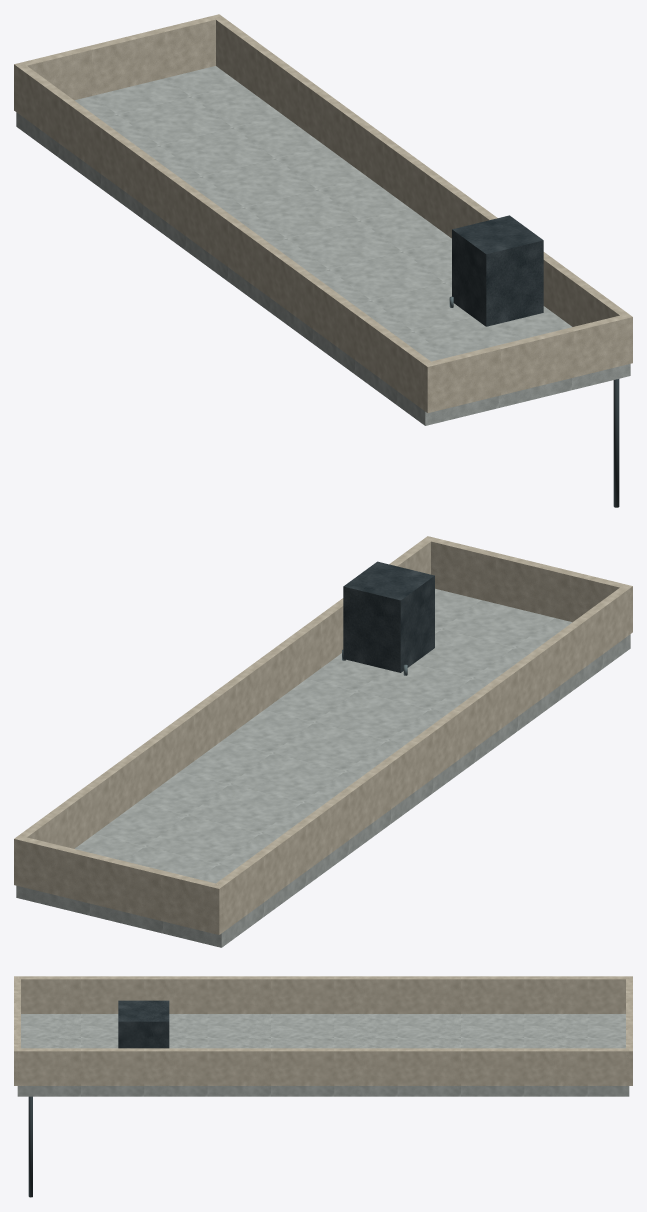
Rendered from Roof_Parapet.glb.
The picture shows the model from 3 angles, top to bottom: view 1: azimuth 30°, elevation 25°; view 2: azimuth 150°, elevation 25°; view 3: azimuth 270°, elevation 25°; orthographic projection. The views are drawn at different scales.
Visible parts, largest first — view 1: VIS_Roof_Deck_0000, VIS_Parapet_Side_0001, VIS_Parapet_Side_0002, VIS_Parapet_End_0004, VIS_Parapet_End_0003, VIS_Water_Tank_0007, VIS_Rainpipe_0006; view 2: VIS_Roof_Deck_0000, VIS_Parapet_Side_0001, VIS_Parapet_Side_0002, VIS_Parapet_End_0003, VIS_Parapet_End_0004, VIS_Water_Tank_0007; view 3: VIS_Roof_Deck_0000, VIS_Parapet_Side_0002, VIS_Parapet_Side_0001, VIS_Water_Tank_0007, VIS_Parapet_End_0003, VIS_Parapet_End_0004, VIS_Rainpipe_0006.
Part boxes in pixels (box(x1,y1,x2,y2)): VIS_Roof_Deck_0000: box(16, 66, 630, 425); VIS_Parapet_Side_0001: box(16, 64, 432, 410); VIS_Parapet_Side_0002: box(214, 16, 629, 326); VIS_Parapet_End_0004: box(423, 314, 632, 412); VIS_Parapet_End_0003: box(14, 14, 223, 113); VIS_Water_Tank_0007: box(452, 215, 543, 326); VIS_Rainpipe_0006: box(613, 379, 619, 507); VIS_Roof_Deck_0000: box(16, 588, 630, 947); VIS_Parapet_Side_0001: box(214, 586, 630, 932); VIS_Parapet_Side_0002: box(19, 538, 432, 848); VIS_Parapet_End_0003: box(14, 835, 223, 934); VIS_Parapet_End_0004: box(423, 536, 632, 634); VIS_Water_Tank_0007: box(343, 561, 434, 672); VIS_Roof_Deck_0000: box(17, 1014, 629, 1096); VIS_Parapet_Side_0002: box(17, 1048, 629, 1085); VIS_Parapet_Side_0001: box(17, 976, 629, 1013); VIS_Water_Tank_0007: box(118, 1000, 169, 1048); VIS_Parapet_End_0003: box(626, 976, 632, 1085); VIS_Parapet_End_0004: box(14, 976, 20, 1085); VIS_Rainpipe_0006: box(28, 1096, 32, 1197).
Bounding box in the file's own units: 4 × 4.22 × 13.96.
4 materials, 4 textured.
